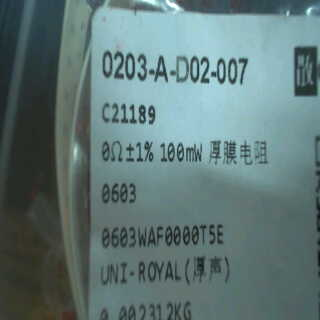0R: (100, 136, 207, 212)
